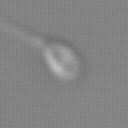normal: (1, 16, 42, 47)
